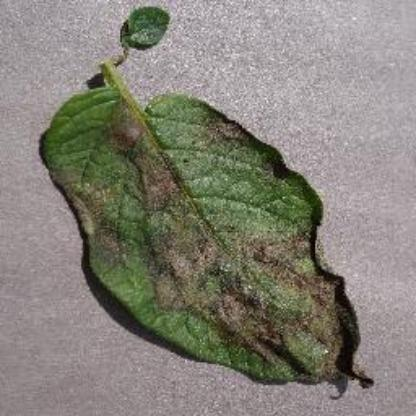Late-Blight: (25, 20, 392, 396)
